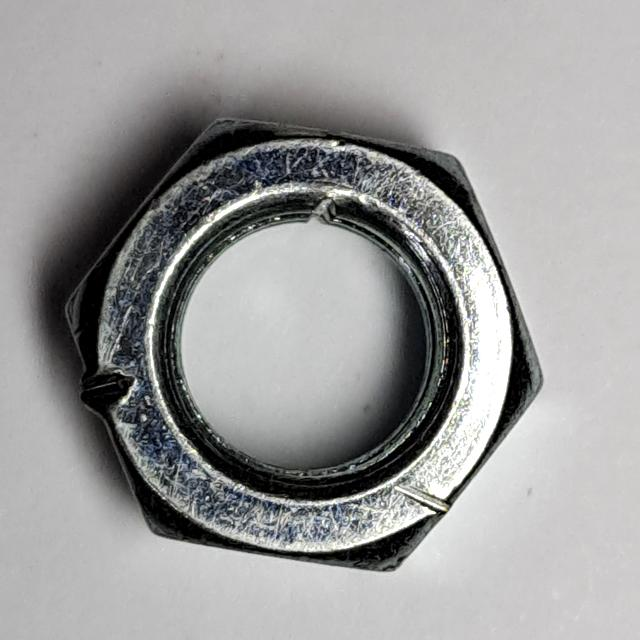Scratches: (53, 107, 558, 586)
